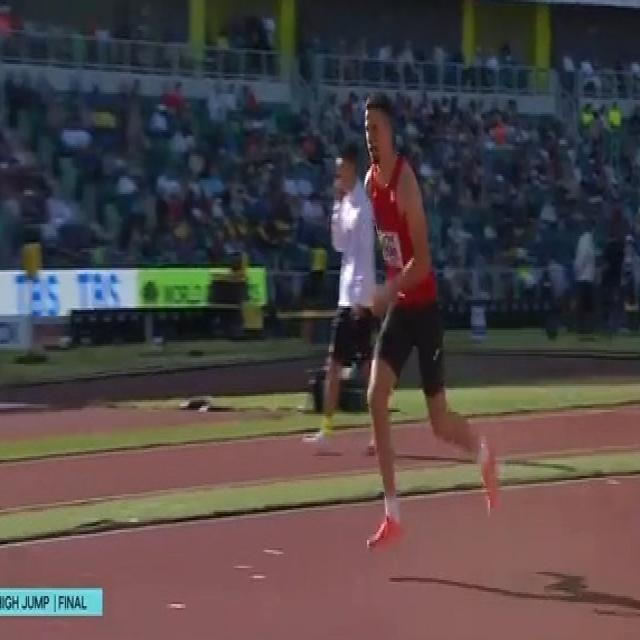run: (343, 96, 504, 560)
